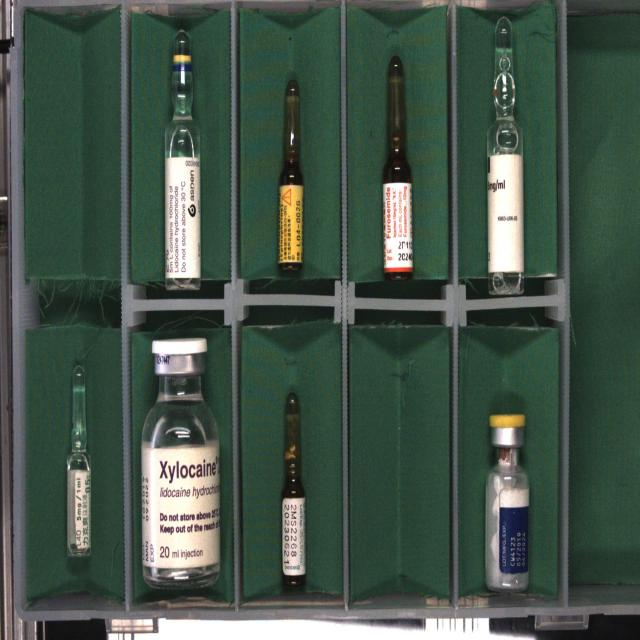Vials: (141, 338, 220, 588), (486, 414, 529, 591)
